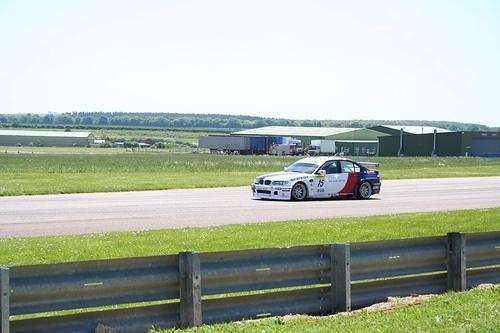car: (254, 152, 385, 204)
